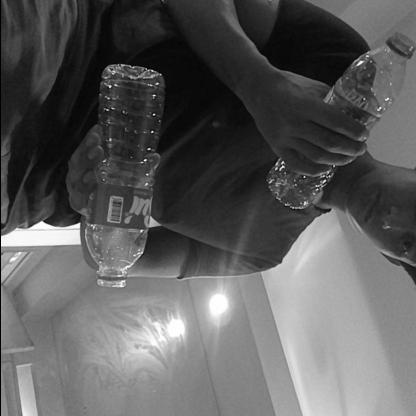plastic_bottles: (267, 28, 416, 214), (82, 63, 166, 288)
